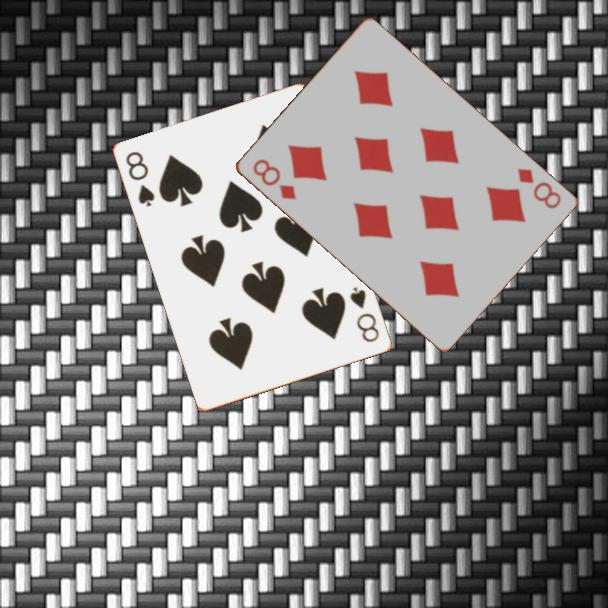d08: (513, 164, 564, 212), (249, 155, 299, 203)
s08: (347, 283, 382, 345), (123, 148, 158, 210)
